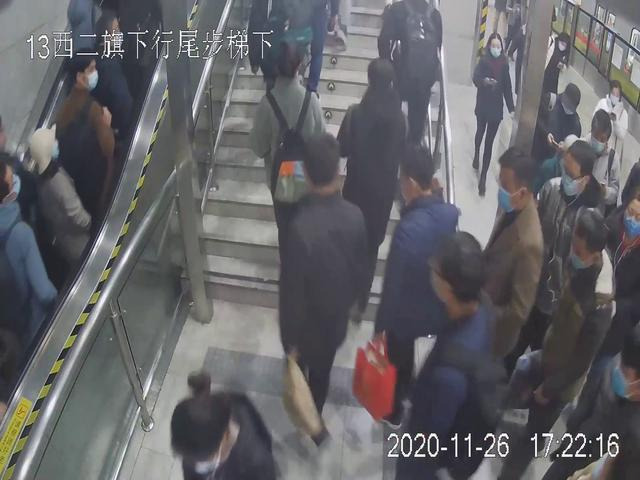person: (277, 131, 374, 450), (379, 147, 467, 426), (537, 214, 612, 463), (481, 147, 550, 400), (54, 56, 118, 228), (458, 33, 520, 195)
